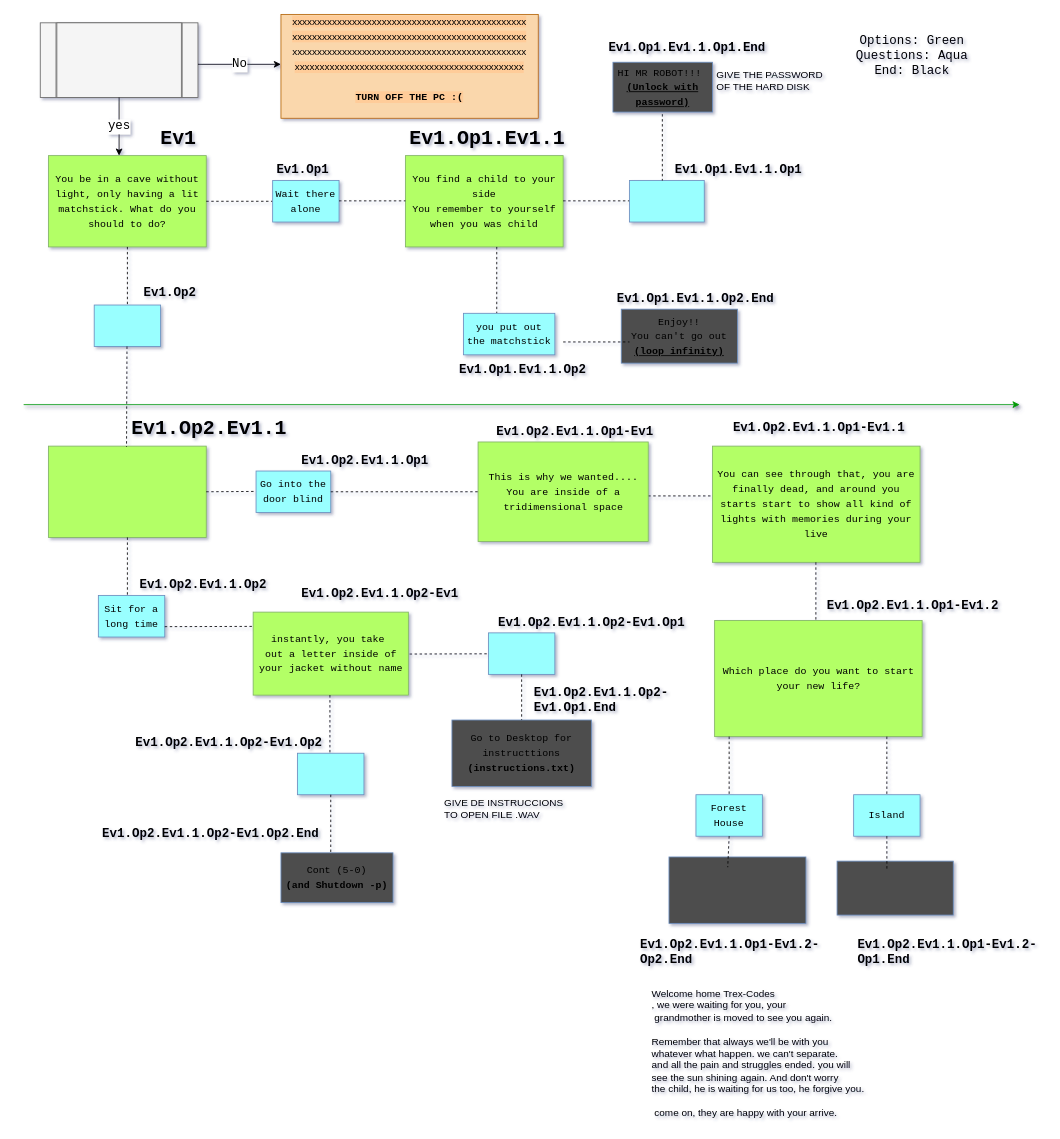
Image size: 1060x1139. Some labels were removed from this diagram. The centre of each missing label's shape, as x and y in pixels:
"Destroy it" goes at point (330, 773).
"Find a door" goes at point (127, 325).
"Hi! Welcome to the game Start?" goes at point (118, 60).
"Open it" goes at point (521, 653).
"Welcome to the Forest House!! (ASCII Forest House)" goes at point (737, 889).
"Welcome to the island!! (ASCII Island)" goes at point (894, 887).
"You decide to be quiet" goes at point (666, 201).
"You find the door hidden almost with don't see nothing" goes at point (127, 491).
